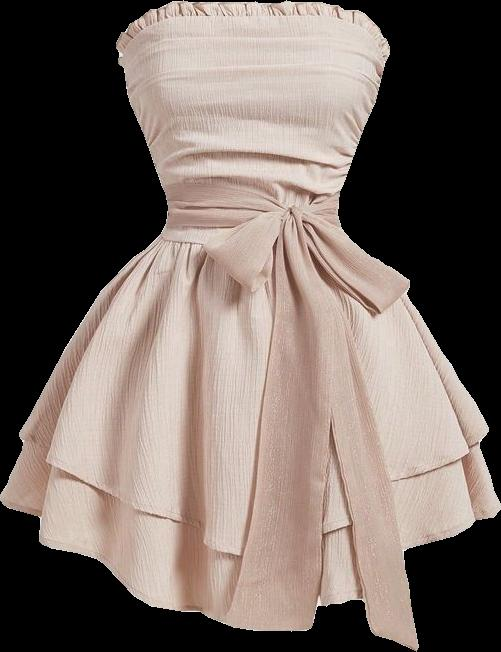Bodice: (116, 1, 389, 245)
Hemline: (0, 494, 500, 651), (19, 425, 491, 557)
Neckline: (115, 0, 395, 61)
Skirt: (1, 234, 500, 650)
Waistline: (157, 232, 352, 251)
